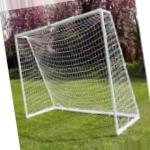goals: (13, 7, 140, 136)
